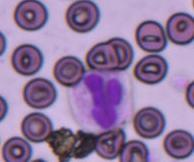N: (68, 68, 134, 132)
